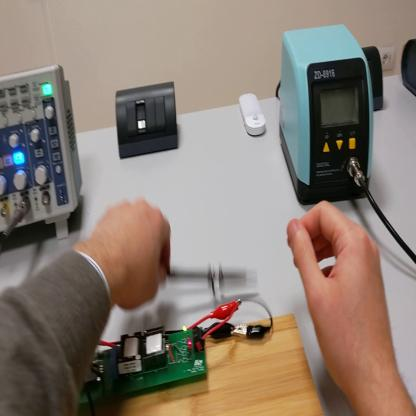hand: (288, 199, 396, 392), (88, 200, 174, 311)
high voltage board: (79, 325, 211, 411)
oscilloscope: (2, 65, 85, 242)
oscilloscope probe tip: (161, 267, 255, 287)
socket: (364, 46, 385, 112), (401, 43, 416, 98)
welder station: (282, 32, 375, 206)
working area: (90, 313, 326, 416)
